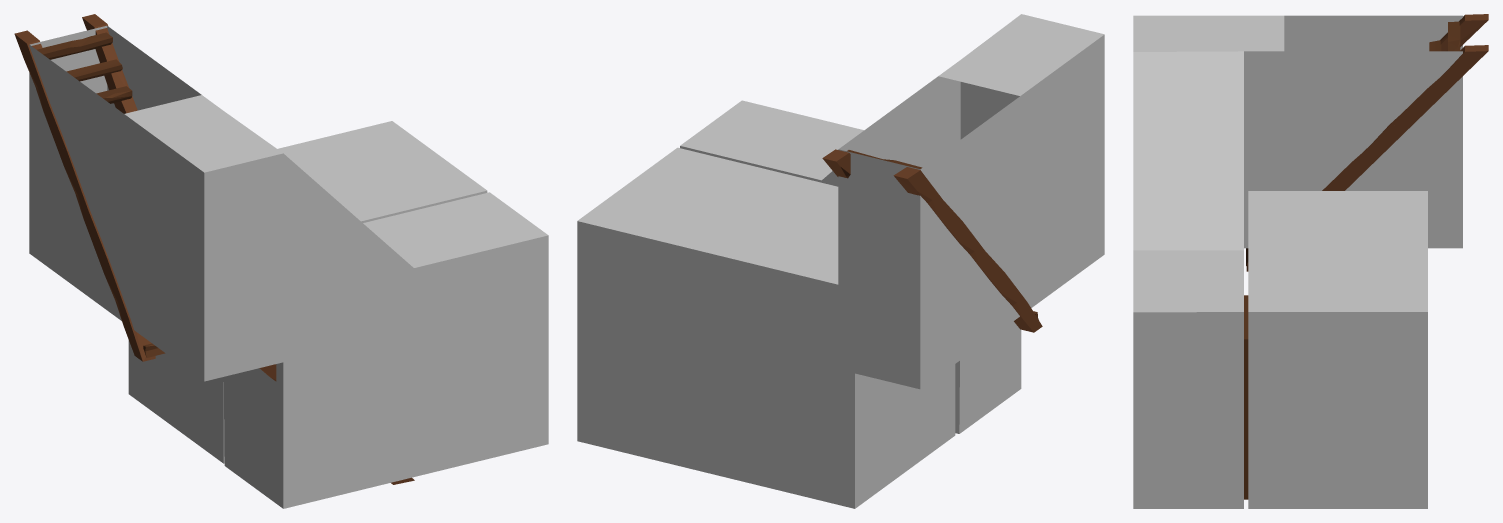
Rendered from escaleras_subterraneo.fbx.
3 renders of one model, left to right at view 1: azimuth 30°, elevation 25°; view 2: azimuth 150°, elevation 25°; view 3: azimuth 270°, elevation 25°, orthographic. The views are drawn at different scales.
Visible parts, largest first — view 1: Cube.001, stairs_wood_regular_middle_1m_fantasy_005.002; view 2: Cube.001, stairs_wood_regular_middle_1m_fantasy_005.002; view 3: Cube.001, stairs_wood_regular_middle_1m_fantasy_005.002, door_single_b_regular_frame_survival_001.002.
Boxes of the visible parts, box(x1,y1,x2,y2) form: Cube.001: box(29, 25, 548, 508); stairs_wood_regular_middle_1m_fantasy_005.002: box(14, 14, 165, 361); Cube.001: box(577, 14, 1104, 508); stairs_wood_regular_middle_1m_fantasy_005.002: box(822, 149, 1042, 332); Cube.001: box(1133, 15, 1462, 508); stairs_wood_regular_middle_1m_fantasy_005.002: box(1246, 14, 1488, 271); door_single_b_regular_frame_survival_001.002: box(1244, 295, 1248, 499).
Bounding box in the file's own units: 474 × 481 × 448.
